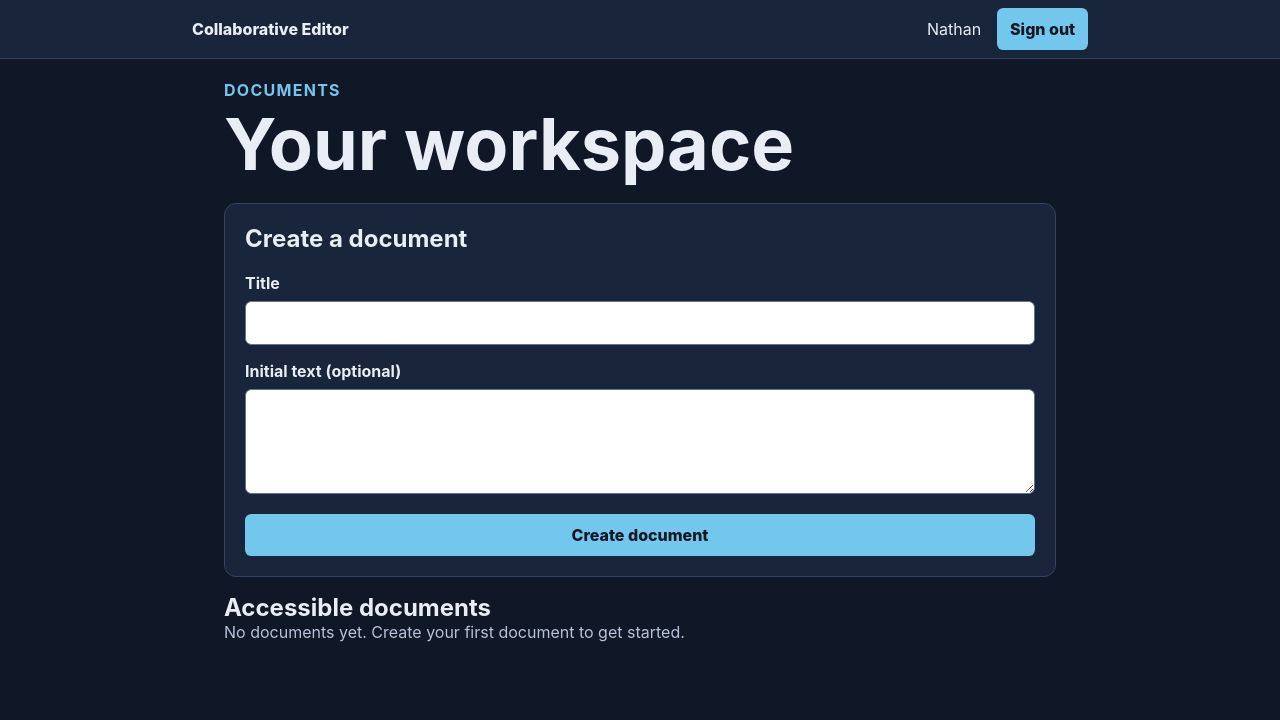
document management flows › shows an empty state and creates a document with the frozen request shape
Expected: the text "No documents yet. Create your first document to get started." is shown, [224,622,685,642]
Type " Distributed Systems Notes " into the field labelled "Title" at (640, 323), box [245,301,1035,345]
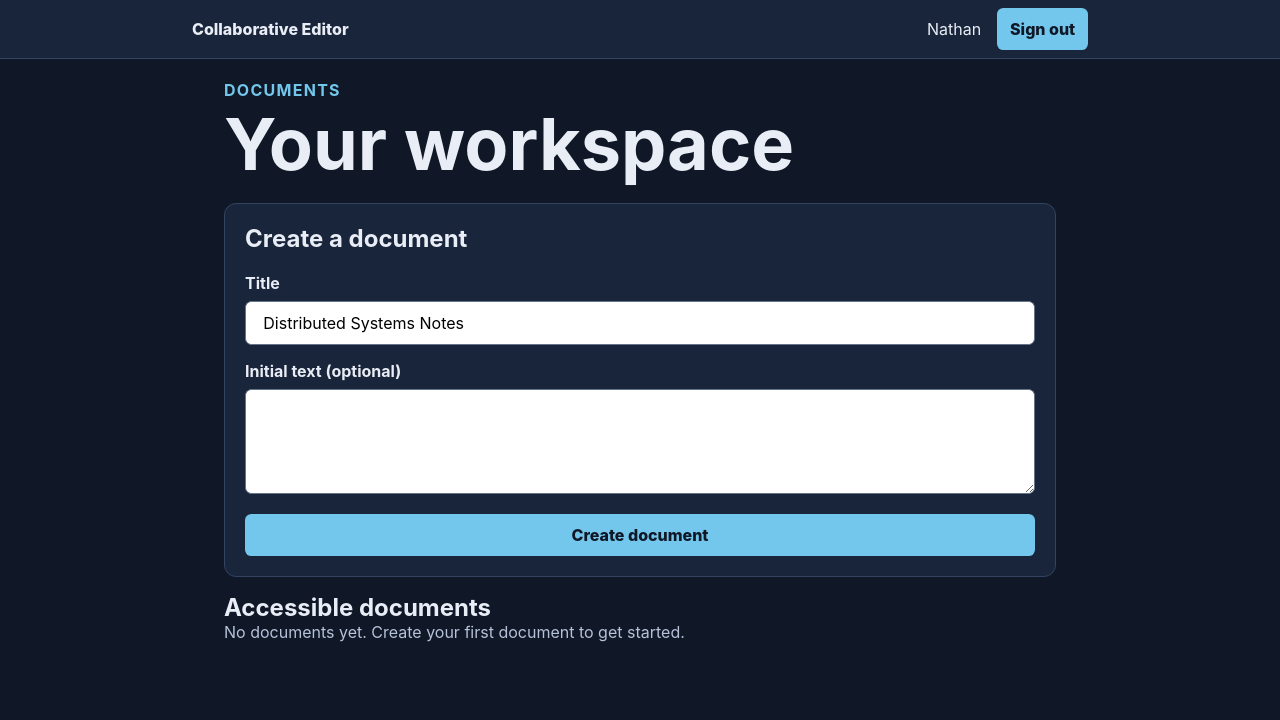
Type "Initial text" into the text box labelled "Initial text (optional)" at (640, 442), box [245,389,1035,494]
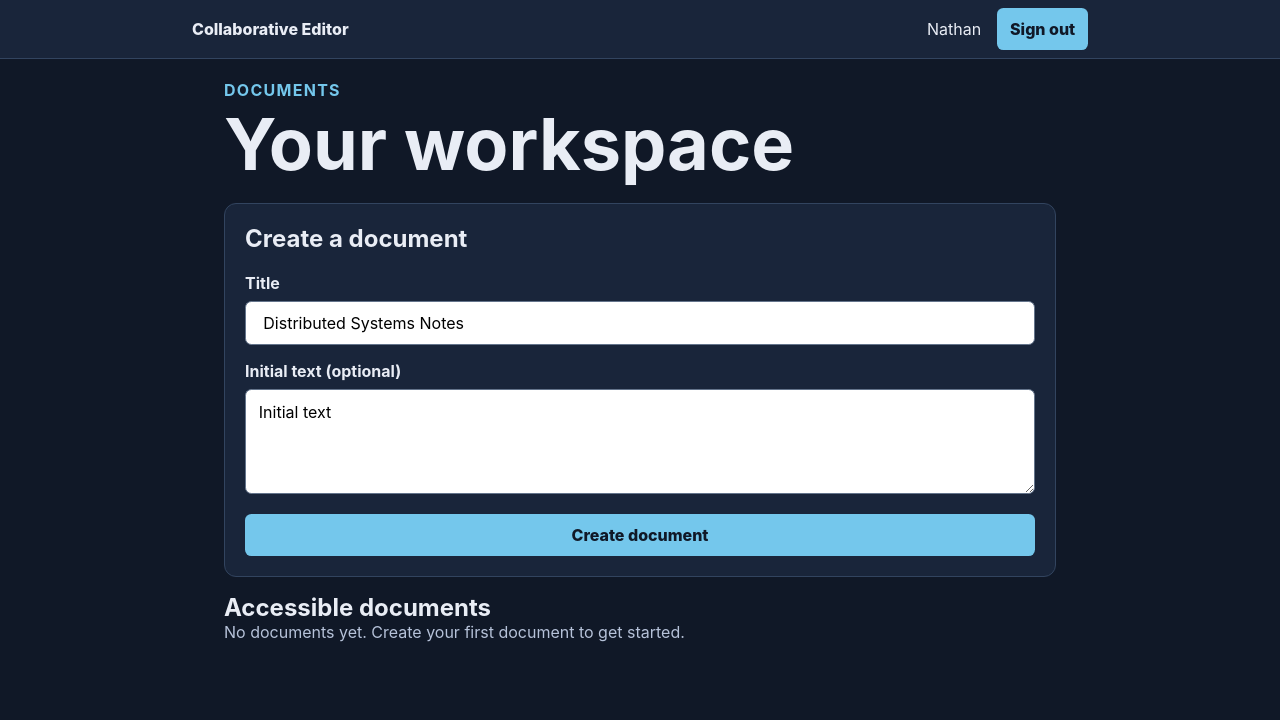
Click the button "Create document" at (640, 535), box [245,514,1035,556]
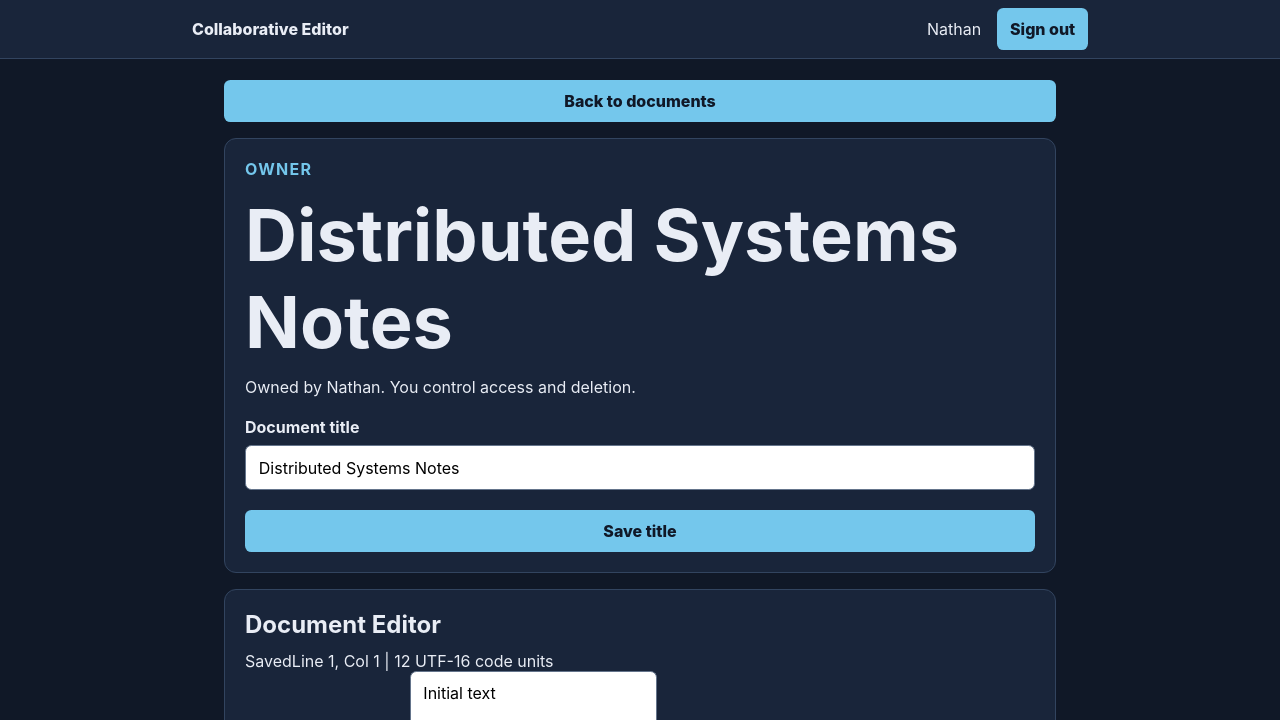
Expected: the heading "Distributed Systems Notes" is shown, [245,191,1035,365]
